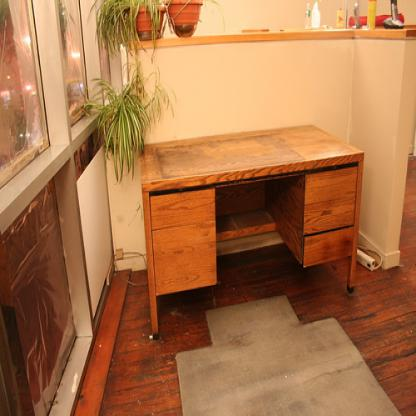pottedplant: (81, 72, 170, 183), (96, 0, 166, 60), (166, 0, 205, 40)
